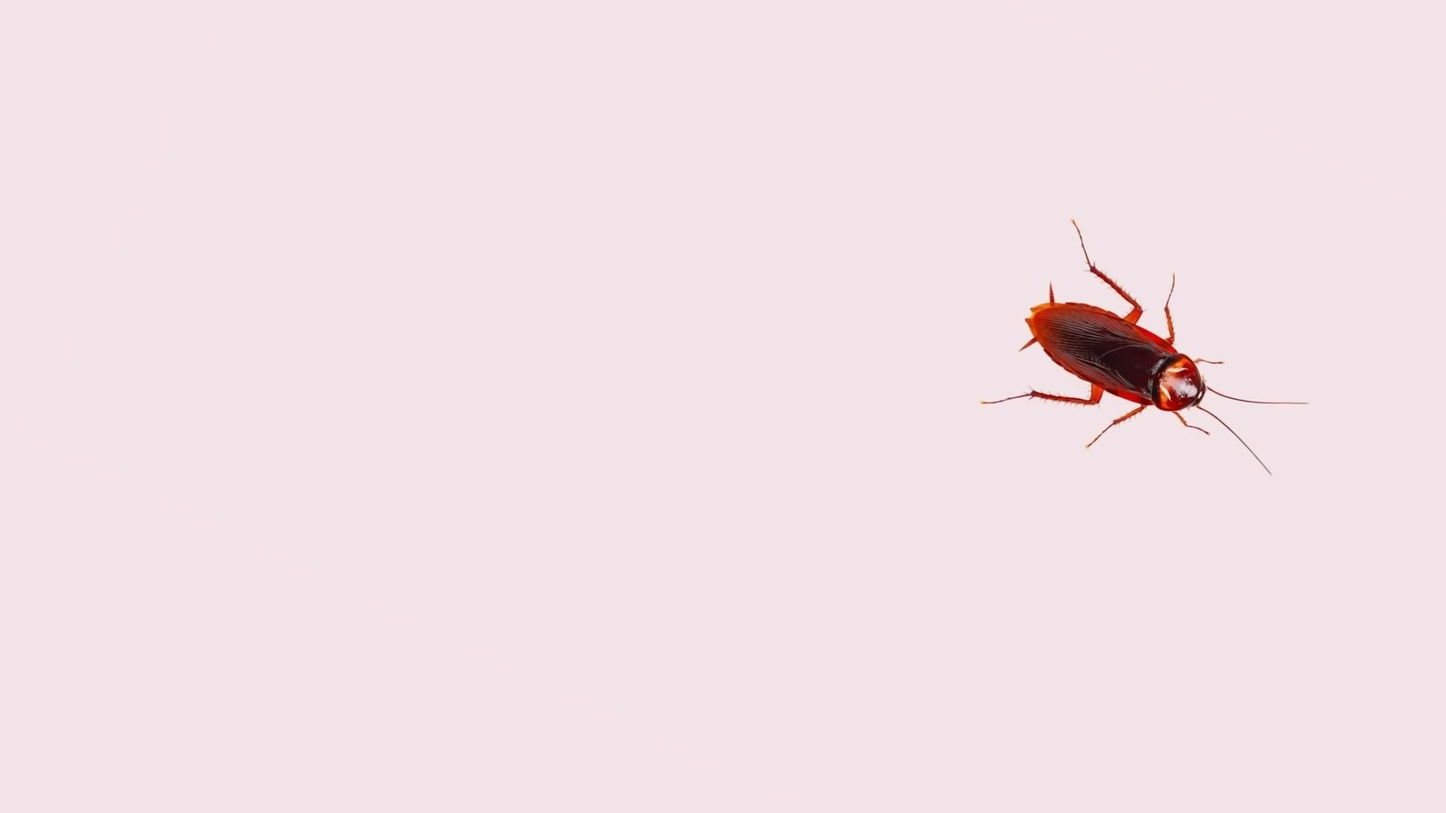cockroach: (975, 217, 1286, 497)
